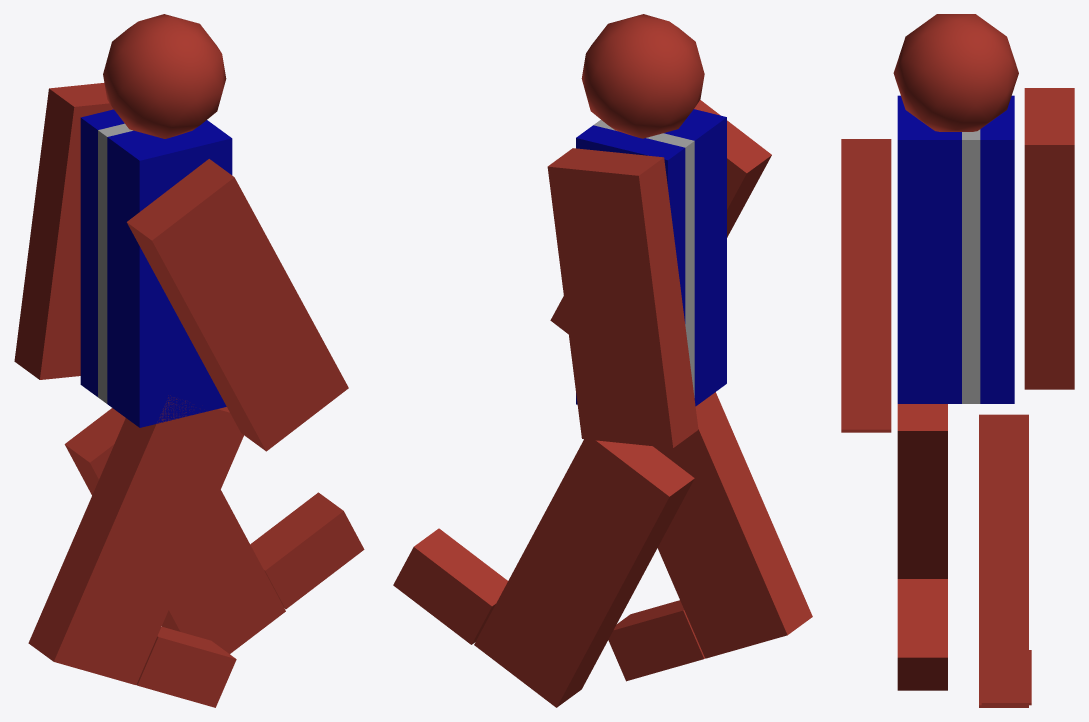
File: player_000060.obj
3 renders of one model, left to right at view 1: azimuth 30°, elevation 25°; view 2: azimuth 150°, elevation 25°; view 3: azimuth 270°, elevation 25°, orthographic.
Visible parts, largest first — view 1: Cube.001, Cube.005, Cube, Cube.006, Cube.002, Icosphere, Cube.004, Cube.003; view 2: Cube.006, Cube.002, Cube.001, Cube, Icosphere, Cube.004, Cube.003, Cube.005; view 3: Cube, Cube.006, Cube.005, Cube.002, Icosphere, Cube.001, Cube.003, Cube.004.
Part boxes in pixels (<box>): Cube.001: <box>28,395,243,684</box>; Cube.005: <box>127,159,348,451</box>; Cube: <box>80,109,232,427</box>; Cube.006: <box>14,83,113,379</box>; Cube.002: <box>64,408,285,653</box>; Icosphere: <box>103,14,226,138</box>; Cube.004: <box>250,492,364,609</box>; Cube.003: <box>136,626,236,707</box>; Cube.006: <box>547,148,698,448</box>; Cube.002: <box>474,439,694,707</box>; Cube.001: <box>653,392,812,658</box>; Cube: <box>576,109,726,406</box>; Icosphere: <box>581,14,704,138</box>; Cube.004: <box>393,528,507,644</box>; Cube.003: <box>608,600,704,681</box>; Cube.005: <box>550,100,771,333</box>; Cube: <box>897,95,1014,403</box>; Cube.006: <box>1024,88,1074,389</box>; Cube.005: <box>841,139,891,432</box>; Cube.002: <box>979,414,1028,707</box>; Icosphere: <box>893,14,1018,131</box>; Cube.001: <box>897,404,947,578</box>; Cube.003: <box>897,579,947,690</box>; Cube.004: <box>981,650,1031,705</box>.
Size of the model in its own units: 1.57 by 2.88 by 0.9137.
